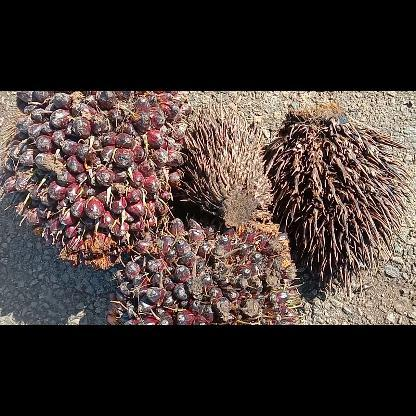Janjang kosong: (264, 103, 414, 299), (180, 102, 270, 228)
TBS mentah: (0, 91, 190, 269), (105, 218, 303, 324)
